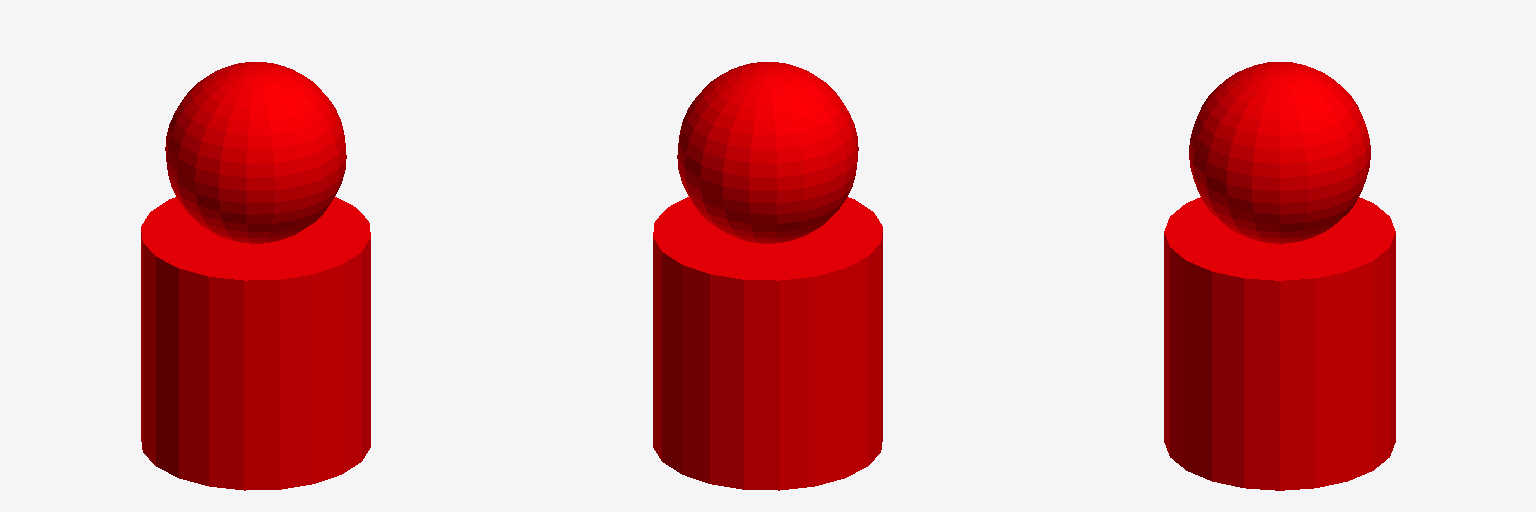
File: testObject.obj
3 renders of one model, left to right at view 1: azimuth 30°, elevation 25°; view 2: azimuth 150°, elevation 25°; view 3: azimuth 270°, elevation 25°, orthographic.
Visible parts, largest first — view 1: group1 pCylinder1 polySurface1, group1 pSphere1 polySurface1; view 2: group1 pCylinder1 polySurface1, group1 pSphere1 polySurface1; view 3: group1 pCylinder1 polySurface1, group1 pSphere1 polySurface1.
Boxes of the visible parts, x1,y1,x2,y2 form: group1 pCylinder1 polySurface1: [141, 197, 370, 490]; group1 pSphere1 polySurface1: [165, 62, 346, 243]; group1 pCylinder1 polySurface1: [653, 197, 882, 490]; group1 pSphere1 polySurface1: [677, 62, 858, 243]; group1 pCylinder1 polySurface1: [1164, 197, 1395, 490]; group1 pSphere1 polySurface1: [1189, 62, 1370, 243].
Size of the model in its own units: 2 by 3.54 by 2.